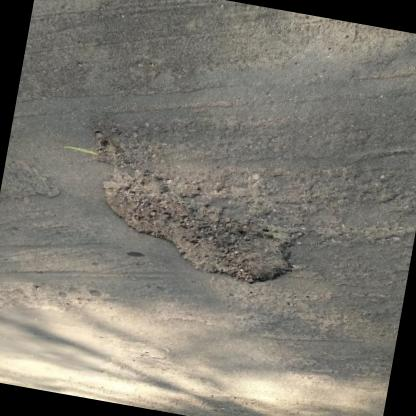pothole: (86, 164, 309, 294)
